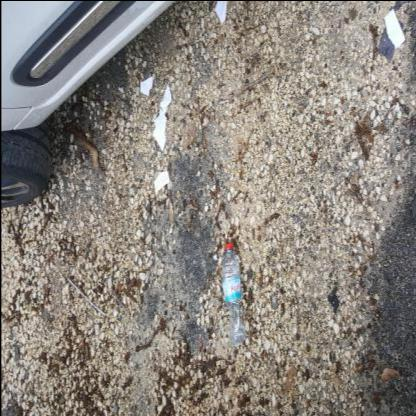Bottle: (223, 242, 232, 248)
Bottle cap: (221, 241, 245, 343)
Paper: (150, 83, 171, 150), (152, 168, 168, 192), (214, 0, 226, 22), (139, 76, 152, 96)
Straw: (66, 276, 104, 314)
Unlabeled litter: (382, 7, 404, 49)
